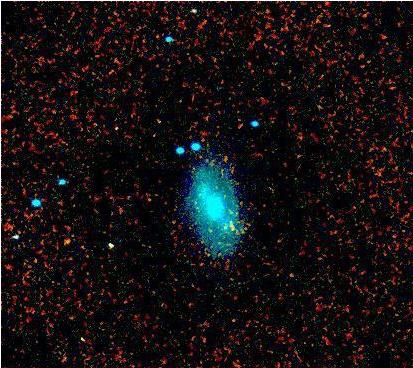star: (47, 228, 77, 258)
